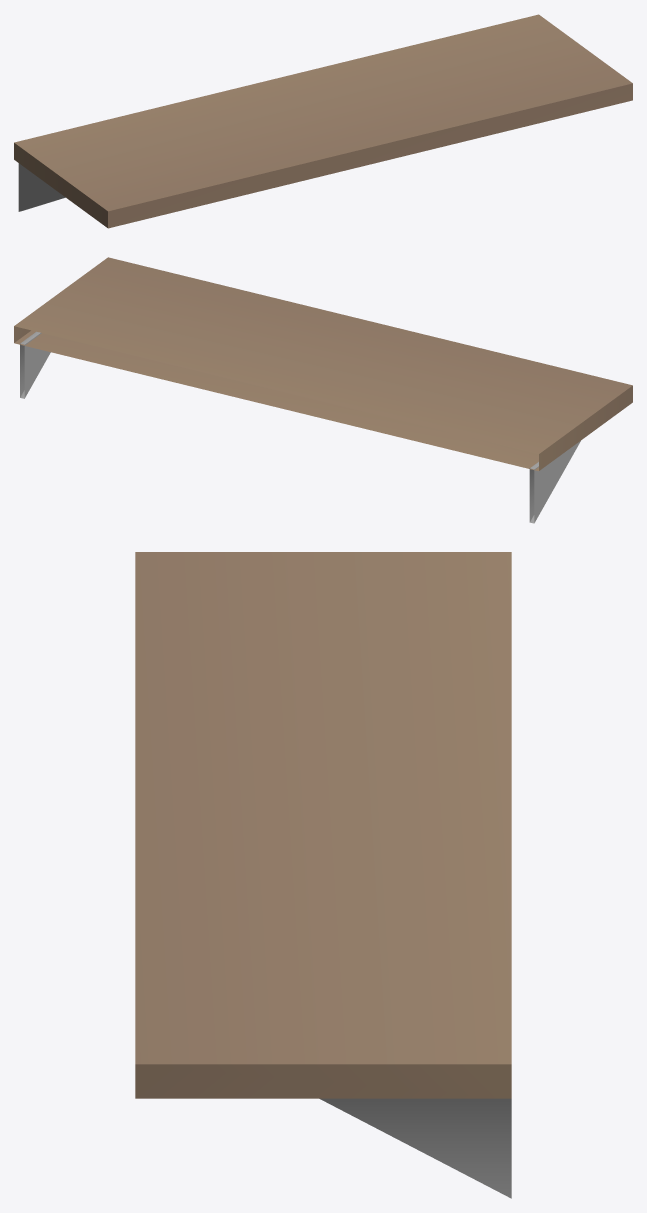
File: m_thomas_shelf.fbx
3 views of the same model, one above another, from view 1: azimuth 30°, elevation 25°; view 2: azimuth 150°, elevation 25°; view 3: azimuth 270°, elevation 25° (orthographic). The views are drawn at different scales.
Visible parts, largest first — view 1: m_thomas_shelf; view 2: m_thomas_shelf; view 3: m_thomas_shelf.
Part boxes in pixels (<box>): m_thomas_shelf: <box>14,14,632,228</box>; m_thomas_shelf: <box>14,257,632,523</box>; m_thomas_shelf: <box>135,552,511,1198</box>.
Size of the model in its own units: 131 by 16.83 by 40.7.
